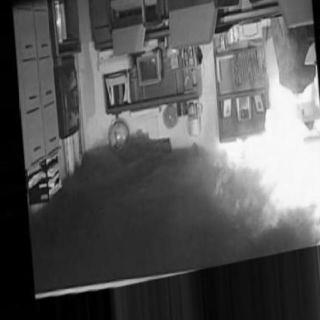Fire: (217, 48, 320, 244)
